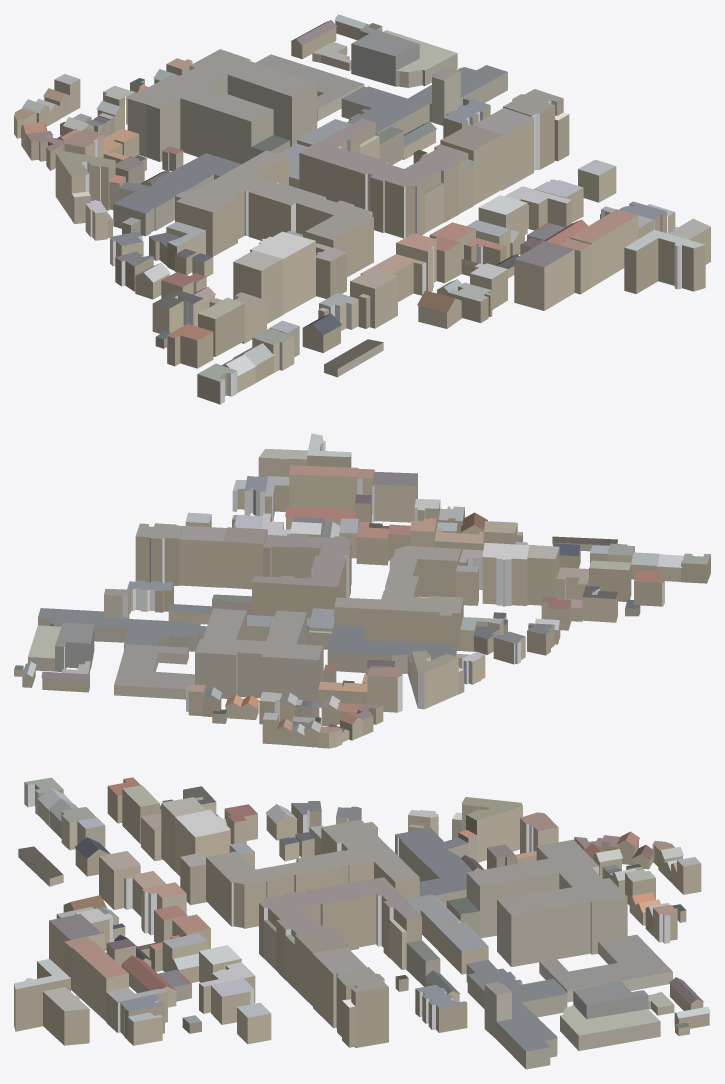
3 views of the same model, one above another, from view 1: azimuth 30°, elevation 25°; view 2: azimuth 150°, elevation 25°; view 3: azimuth 270°, elevation 25° (orthographic). The views are drawn at different scales.
Parts seen in each view (by area): view 1: tuile; view 2: tuile; view 3: tuile.
Part boxes in pixels (<box>): tuile: <box>14,14,710,404</box>; tuile: <box>14,433,710,748</box>; tuile: <box>14,777,710,1069</box>.
Size of the model in its own units: 239 by 26.03 by 266.
